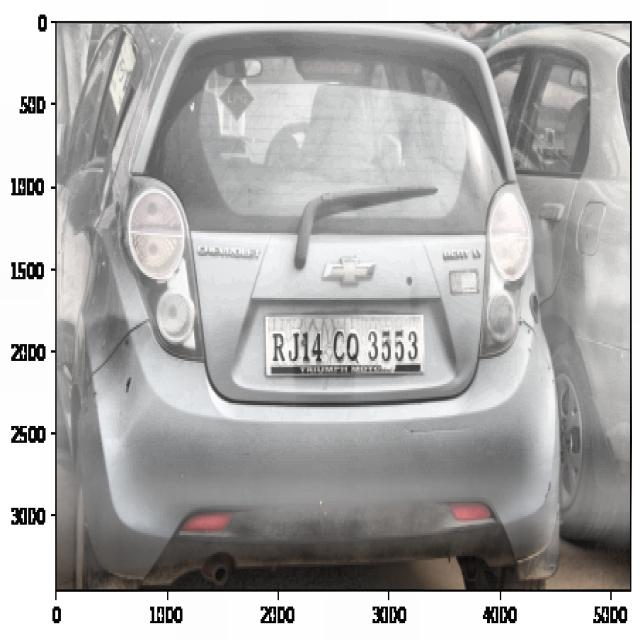license_plate: (267, 318, 421, 372)
